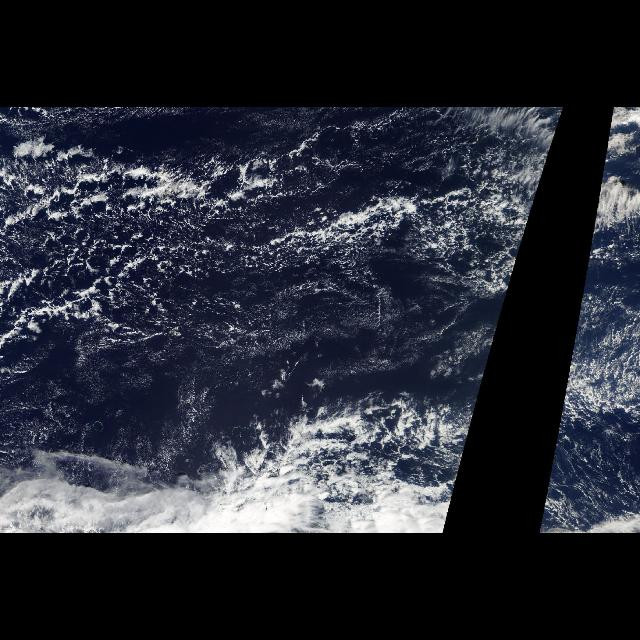Fish: (3, 152, 499, 284)
Gravel: (570, 326, 640, 444)
Sugar: (303, 300, 449, 372), (86, 368, 214, 429)
